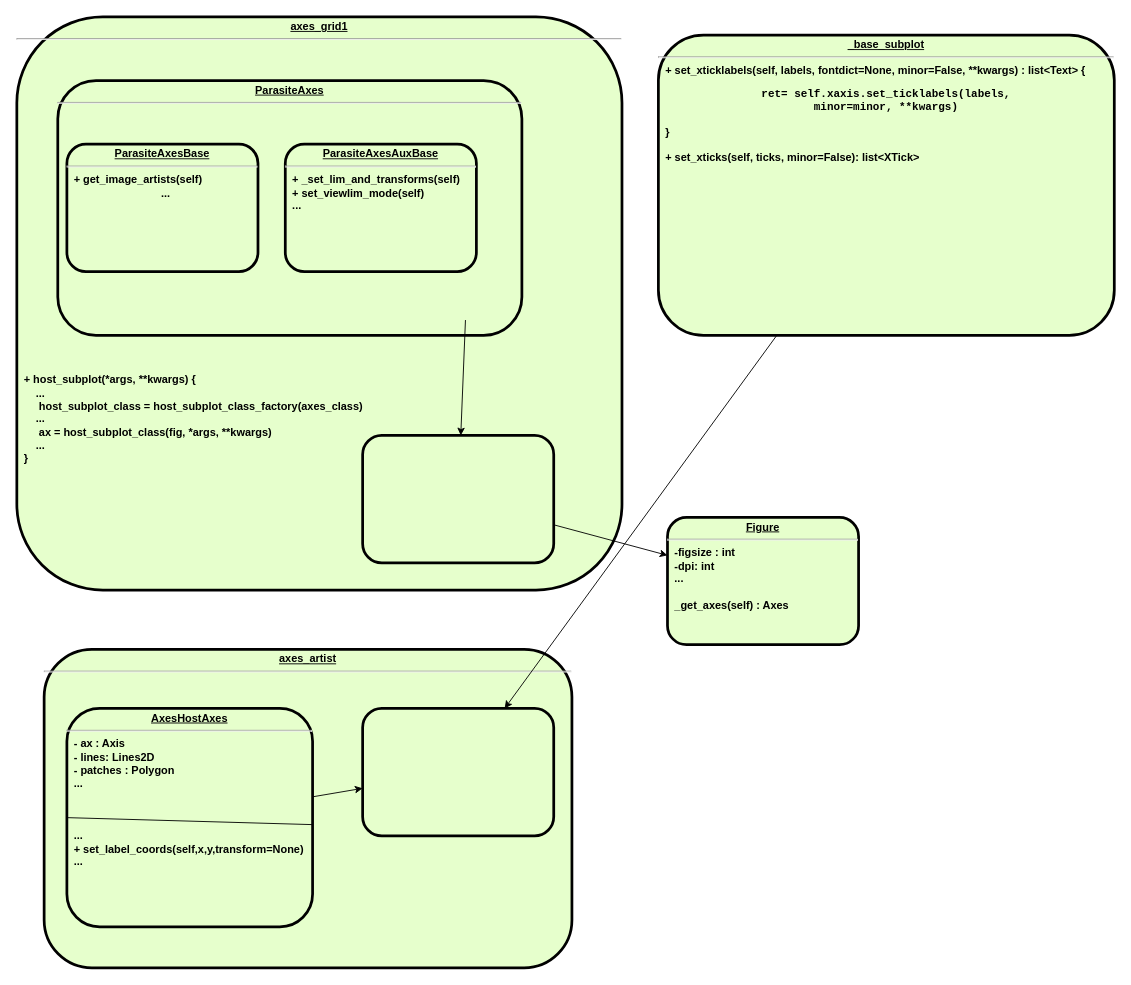
Image size: 1131x985. Some labels were removed from this diagram. Here are the shapes that lost their labels. From the top down, the centre of each, then its label:
At (458,499): "HostAxesBase -fig : Figure ...".
At (458,772): "AxesHostAxesSubplot -ax : Axes ...".
